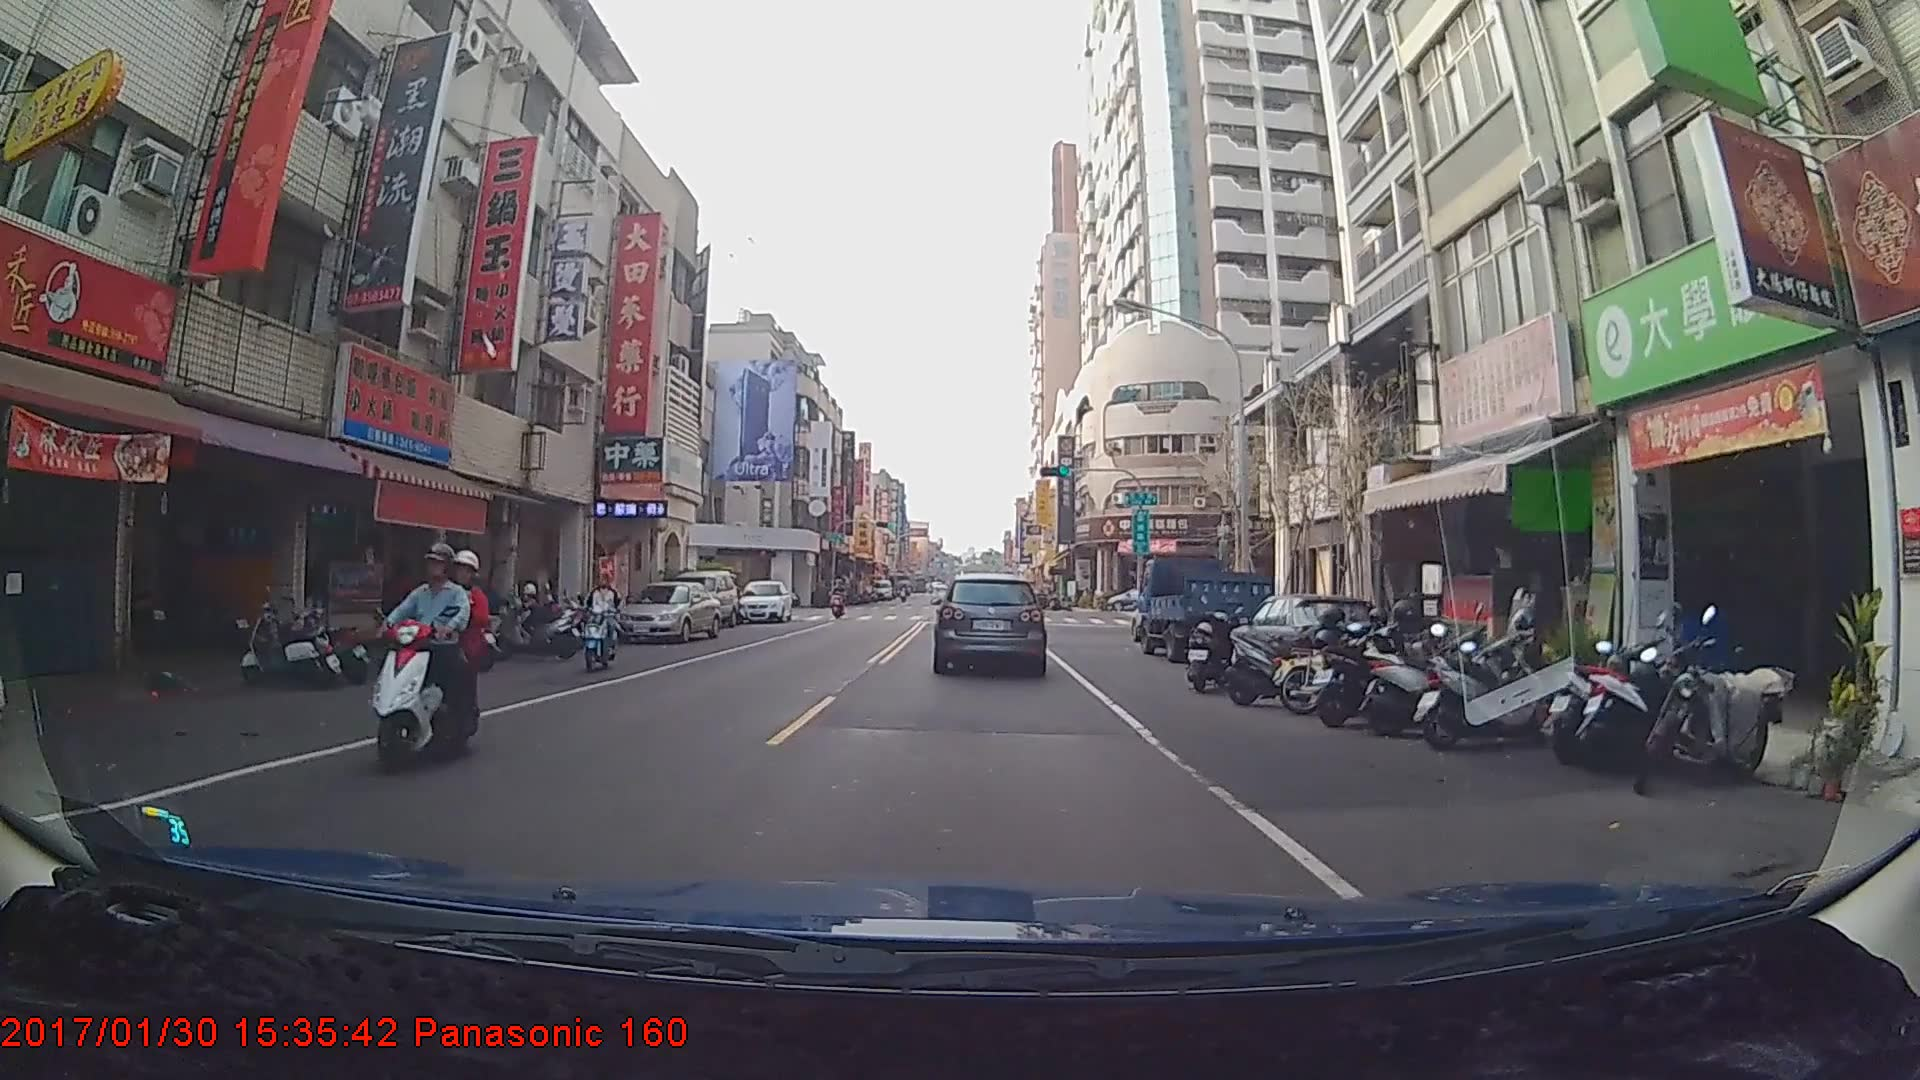rider: (356, 543, 481, 769), (584, 571, 627, 674), (829, 580, 849, 624)
vehicle: (1135, 549, 1276, 663), (934, 572, 1046, 675), (611, 579, 722, 642), (668, 565, 741, 628), (736, 577, 790, 623)
